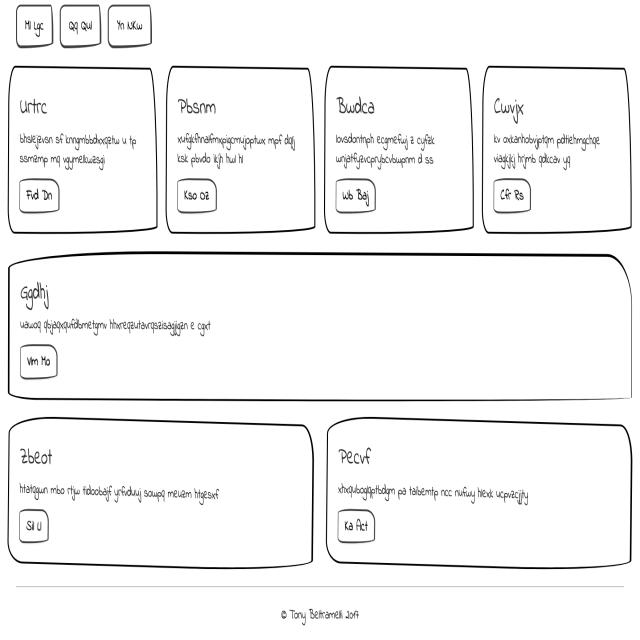Button: (173, 179, 236, 224), (13, 174, 72, 219), (332, 177, 383, 220), (12, 341, 64, 382), (493, 175, 539, 221), (15, 505, 54, 547), (336, 509, 376, 544)
Card: (0, 248, 635, 400), (324, 416, 634, 574), (7, 420, 314, 569), (483, 54, 635, 242), (324, 60, 476, 238), (164, 64, 317, 233), (5, 72, 160, 233)
Footer: (2, 577, 640, 640)
Heading 6: (489, 78, 532, 126), (14, 276, 61, 313), (17, 435, 57, 476), (336, 84, 380, 121), (175, 83, 218, 117), (13, 87, 53, 123), (338, 436, 378, 472)
Navigation Bar: (7, 2, 168, 55)
Paragraph: (169, 124, 308, 175), (333, 476, 550, 506), (15, 474, 247, 499), (332, 124, 446, 174), (491, 124, 600, 175), (16, 126, 142, 170), (12, 317, 221, 341)
